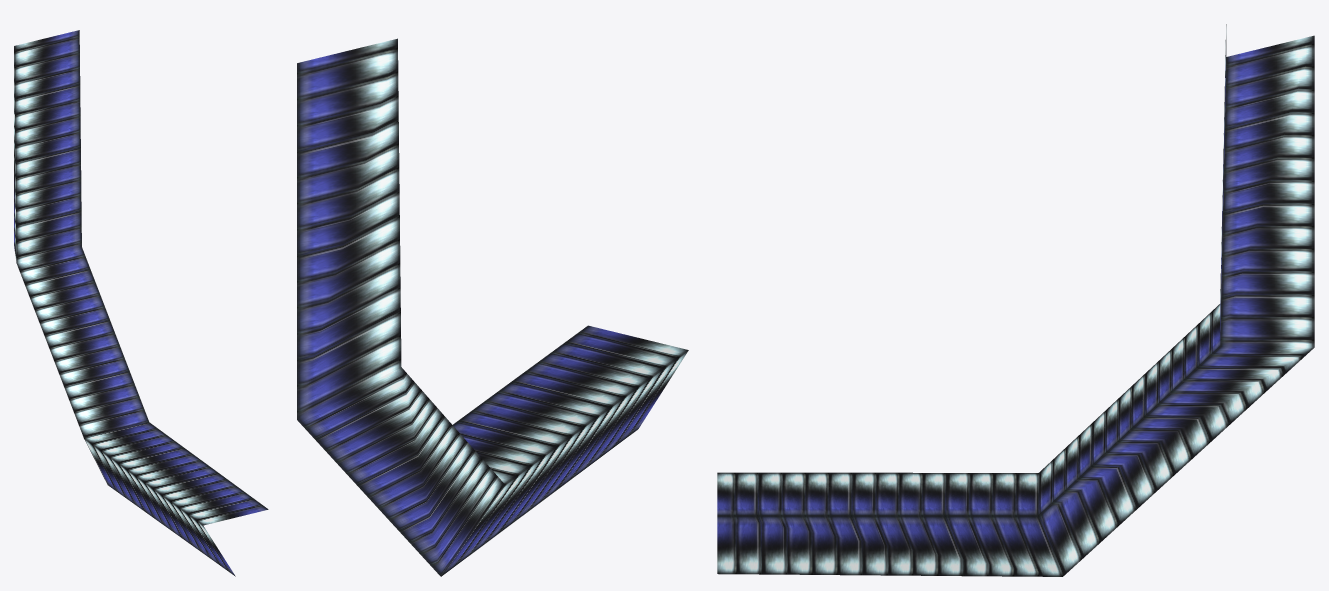
3 views of the same model, side by side, from view 1: azimuth 30°, elevation 25°; view 2: azimuth 150°, elevation 25°; view 3: azimuth 270°, elevation 25° (orthographic). The views are drawn at different scales.
Visible parts, largest first — view 1: Cylinder02; view 2: Cylinder02; view 3: Cylinder02.
Boxes of the visible parts, x1=… form: Cylinder02: x1=14, y1=30, x2=268, y2=576; Cylinder02: x1=297, y1=38, x2=688, y2=576; Cylinder02: x1=717, y1=24, x2=1314, y2=576.
Size of the model in its own units: 164 by 963 by 962.
1 material, 1 textured.
